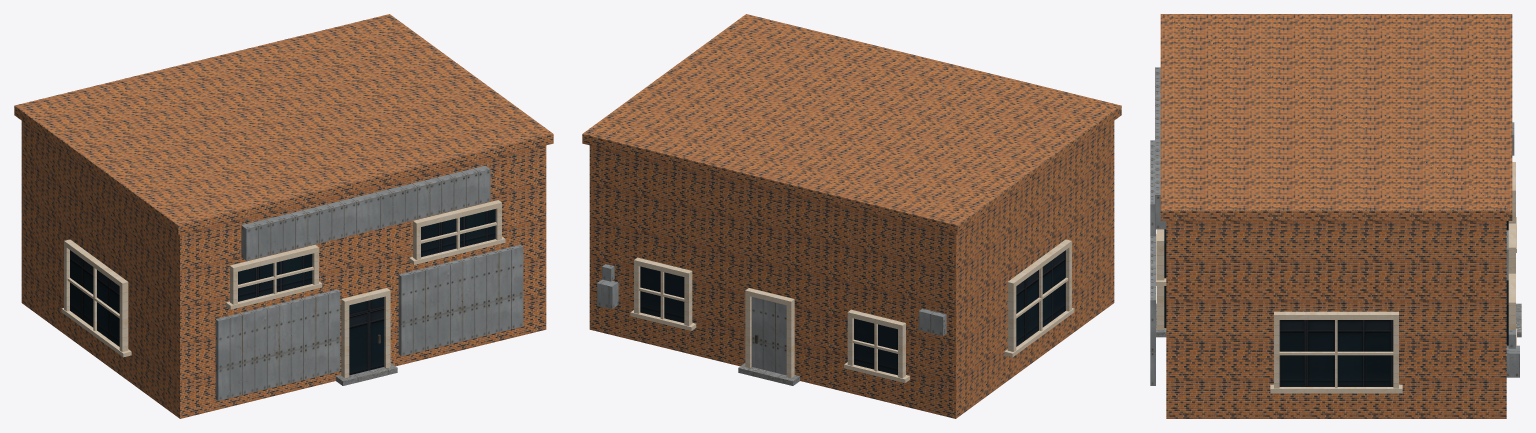
Rendered from corner-spirits-store_lod0.gltf.
3 views of the same model, side by side, from view 1: azimuth 30°, elevation 25°; view 2: azimuth 150°, elevation 25°; view 3: azimuth 270°, elevation 25° (orthographic). The views are drawn at different scales.
Visible parts, largest first — view 1: corner-spirits-store__parapet, corner-spirits-store_main, corner-spirits-store__shutter_a, corner-spirits-store__shutter_b, corner-spirits-store__sign_band, corner-spirits-store_fen_07-glass-curtain-blue_1_t, corner-spirits-store_fen_04-limestone_0, corner-spirits-store_fen_06-granite_3; view 2: corner-spirits-store_main, corner-spirits-store__parapet, corner-spirits-store_fen_04-limestone_0, corner-spirits-store_fen_07-glass-curtain-blue_1_t, corner-spirits-store_fen_14-steel-panel_4, corner-spirits-store_fen_06-granite_3; view 3: corner-spirits-store__parapet, corner-spirits-store_main, corner-spirits-store_fen_07-glass-curtain-blue_1_t, corner-spirits-store_fen_04-limestone_0, corner-spirits-store__sign_band, corner-spirits-store__shutter_b, corner-spirits-store_fen_14-steel-panel_4, corner-spirits-store__shutter_a.
Boxes of the visible parts, <box> form: corner-spirits-store__parapet: <box>14,14,553,234</box>; corner-spirits-store_main: <box>21,121,546,418</box>; corner-spirits-store__shutter_a: <box>215,289,340,400</box>; corner-spirits-store__shutter_b: <box>398,245,523,356</box>; corner-spirits-store__sign_band: <box>241,165,490,260</box>; corner-spirits-store_fen_07-glass-curtain-blue_1_t: <box>70,209,495,375</box>; corner-spirits-store_fen_04-limestone_0: <box>61,200,505,377</box>; corner-spirits-store_fen_06-granite_3: <box>336,363,397,385</box>; corner-spirits-store_main: <box>589,121,1114,418</box>; corner-spirits-store__parapet: <box>582,14,1121,234</box>; corner-spirits-store_fen_04-limestone_0: <box>630,239,1074,382</box>; corner-spirits-store_fen_07-glass-curtain-blue_1_t: <box>640,250,1065,375</box>; corner-spirits-store_fen_14-steel-panel_4: <box>597,264,946,375</box>; corner-spirits-store_fen_06-granite_3: <box>738,363,799,385</box>; corner-spirits-store__parapet: <box>1160,14,1512,220</box>; corner-spirits-store_main: <box>1166,221,1506,418</box>; corner-spirits-store_fen_07-glass-curtain-blue_1_t: <box>1164,221,1508,386</box>; corner-spirits-store_fen_04-limestone_0: <box>1156,162,1516,393</box>; corner-spirits-store__sign_band: <box>1155,67,1166,229</box>; corner-spirits-store__shutter_b: <box>1150,236,1155,385</box>; corner-spirits-store_fen_14-steel-panel_4: <box>1506,122,1519,377</box>; corner-spirits-store__shutter_a: <box>1150,140,1155,236</box>.
Bounding box in the file's own units: 12.55 × 6.15 × 9.83.
